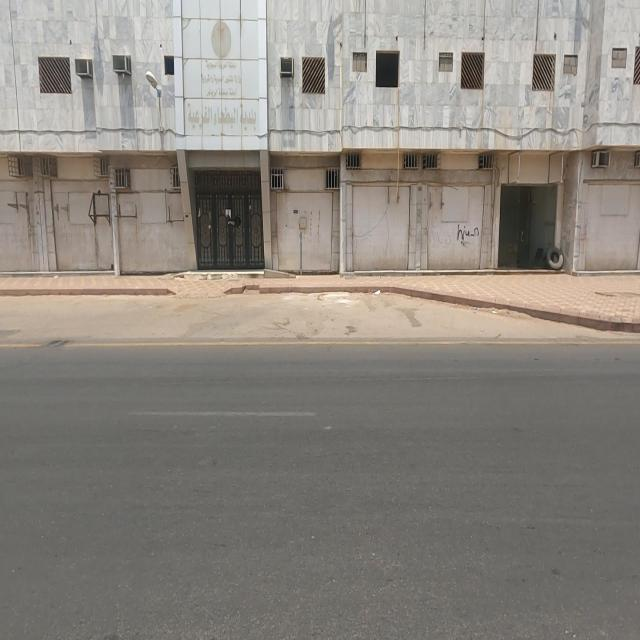Graffiti: (457, 225, 480, 244)
